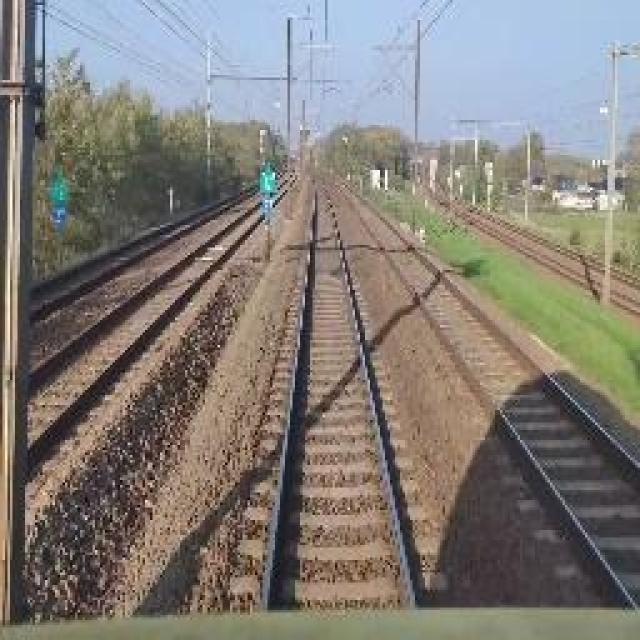rail: (331, 179, 640, 608), (223, 165, 463, 617), (21, 173, 306, 509), (26, 170, 287, 332)
